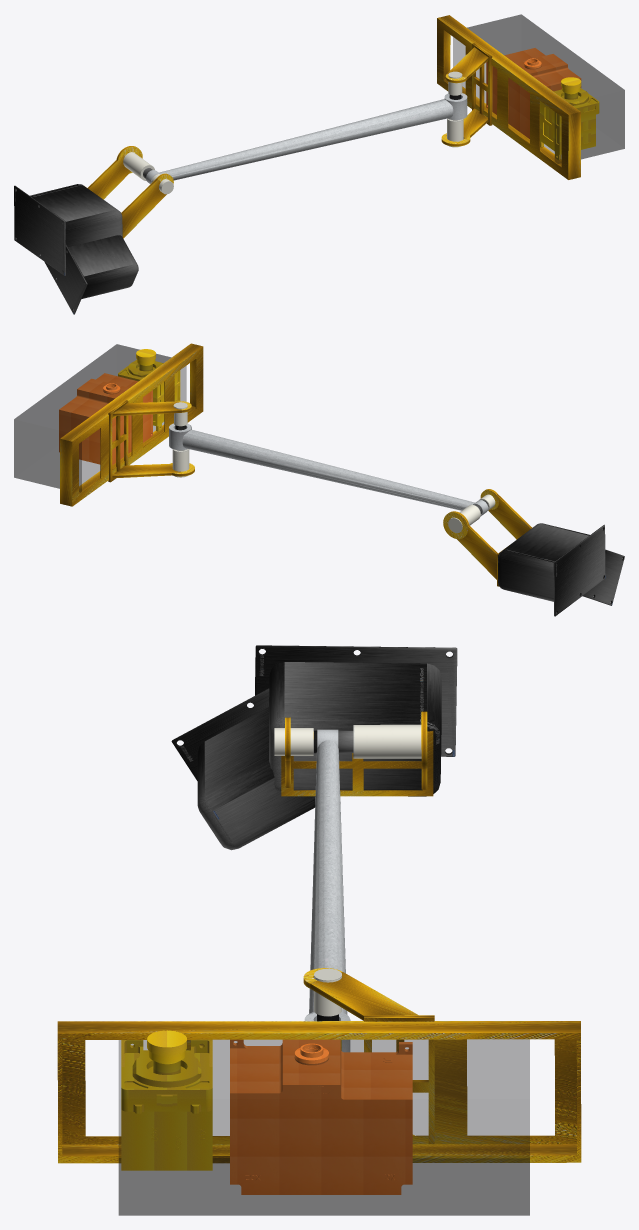
File: wganxj.obj
The picture shows the model from 3 angles, top to bottom: view 1: azimuth 30°, elevation 25°; view 2: azimuth 150°, elevation 25°; view 3: azimuth 270°, elevation 25°; orthographic projection. The views are drawn at different scales.
Visible parts, largest first — view 1: Box075, Box074, ChamferBox003, _DC_Shell, Cylinder295, ChamferBox004, Cylinder298, Cylinder296, Box095, Cylinder535, Cylinder536, Cylinder293; view 2: Box075, ChamferBox003, Box074, Cylinder295, _DC_Shell, Cylinder296, ChamferBox004, Cylinder298, Box095, Cylinder536, Cylinder535, Cylinder293 (+1 smaller); view 3: Box075, _DC_Shell, Box074, ChamferBox003, ChamferBox004, Cylinder295, Box073, Cylinder535, Cylinder293, Box095, Cylinder297, Cylinder534.
Boxes of the visible parts, bbox=[...] form: Box075: bbox=[453, 14, 624, 163]; Box074: bbox=[437, 15, 580, 179]; ChamferBox003: bbox=[14, 184, 122, 275]; _DC_Shell: bbox=[486, 48, 599, 160]; Cylinder295: bbox=[146, 93, 467, 183]; ChamferBox004: bbox=[44, 235, 138, 314]; Cylinder298: bbox=[121, 173, 173, 238]; Cylinder296: bbox=[87, 146, 142, 199]; Box095: bbox=[472, 43, 492, 125]; Cylinder535: bbox=[445, 47, 488, 83]; Cylinder536: bbox=[441, 108, 488, 146]; Cylinder293: bbox=[123, 152, 154, 180]; Box075: bbox=[14, 344, 186, 492]; ChamferBox003: bbox=[498, 523, 605, 616]; Box074: bbox=[60, 343, 203, 506]; Cylinder295: bbox=[169, 423, 488, 515]; _DC_Shell: bbox=[59, 349, 180, 465]; Cylinder296: bbox=[443, 511, 497, 579]; ChamferBox004: bbox=[579, 549, 624, 605]; Cylinder298: bbox=[480, 489, 532, 539]; Box095: bbox=[108, 400, 128, 482]; Cylinder536: bbox=[112, 463, 194, 478]; Cylinder535: bbox=[113, 401, 191, 416]; Cylinder293: bbox=[448, 504, 480, 533]; Box075: bbox=[118, 1039, 529, 1215]; _DC_Shell: bbox=[121, 1030, 412, 1194]; Box074: bbox=[57, 1021, 581, 1163]; ChamferBox003: bbox=[255, 645, 457, 796]; ChamferBox004: bbox=[171, 688, 315, 850]; Cylinder295: bbox=[304, 729, 350, 1052]; Box073: bbox=[281, 731, 433, 796]; Cylinder535: bbox=[303, 968, 418, 1020]; Cylinder293: bbox=[353, 724, 421, 758]; Box095: bbox=[364, 1015, 434, 1144]; Cylinder297: bbox=[274, 728, 313, 755]; Cylinder534: bbox=[314, 968, 341, 1016].
Bounding box in the file's own units: 1056 × 242 × 458.
8 materials, 6 textured.
